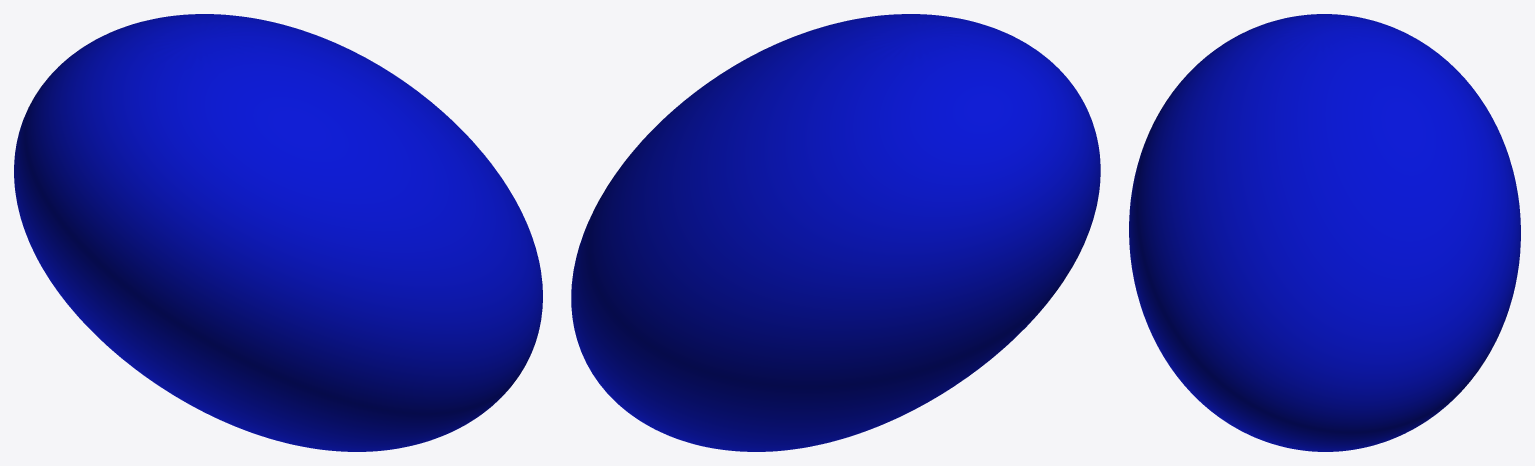
Rendered from ball1.fbx.
3 views of the same model, side by side, from view 1: azimuth 30°, elevation 25°; view 2: azimuth 150°, elevation 25°; view 3: azimuth 270°, elevation 25° (orthographic). The views are drawn at different scales.
Parts seen in each view (by area): view 1: Sphere; view 2: Sphere; view 3: Sphere.
Part boxes in pixels (x1,y1,x2,y2): Sphere: (14, 14, 542, 451); Sphere: (571, 14, 1100, 451); Sphere: (1129, 14, 1520, 451).
Size of the model in its own units: 216 by 190 by 198.
